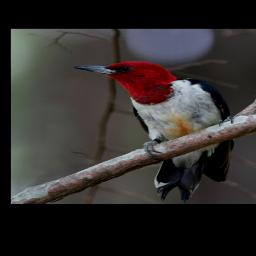Woodpecker: (72, 60, 234, 203)
